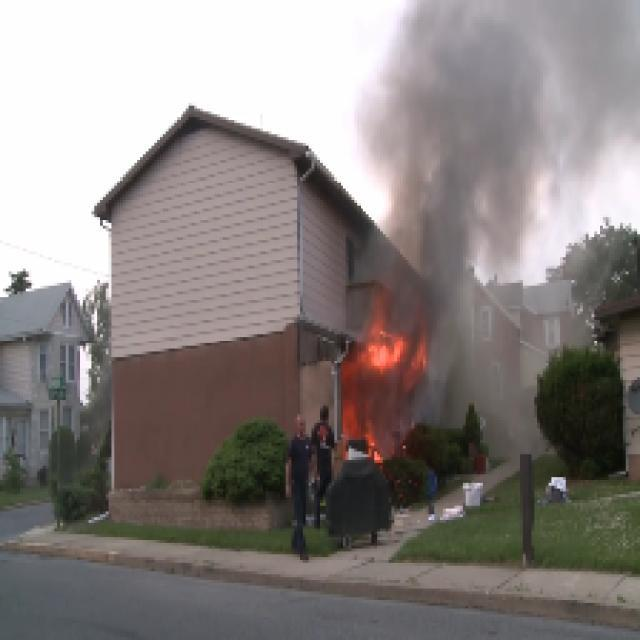Fire: (352, 336, 406, 376)
Smoke: (403, 41, 558, 206), (416, 228, 482, 354)
